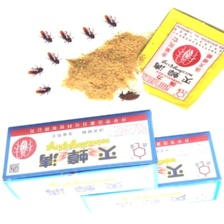book: (0, 105, 160, 205), (60, 127, 224, 216)
insecticide: (133, 4, 224, 113)
